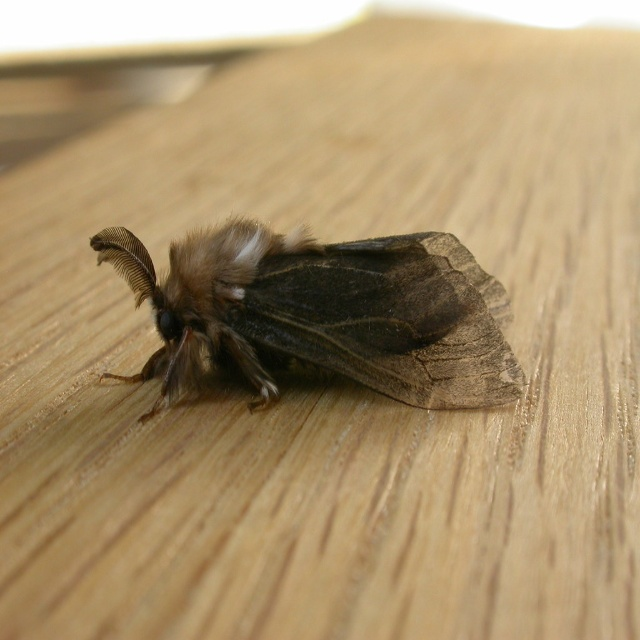Moths and butterflies: (85, 223, 532, 415)
